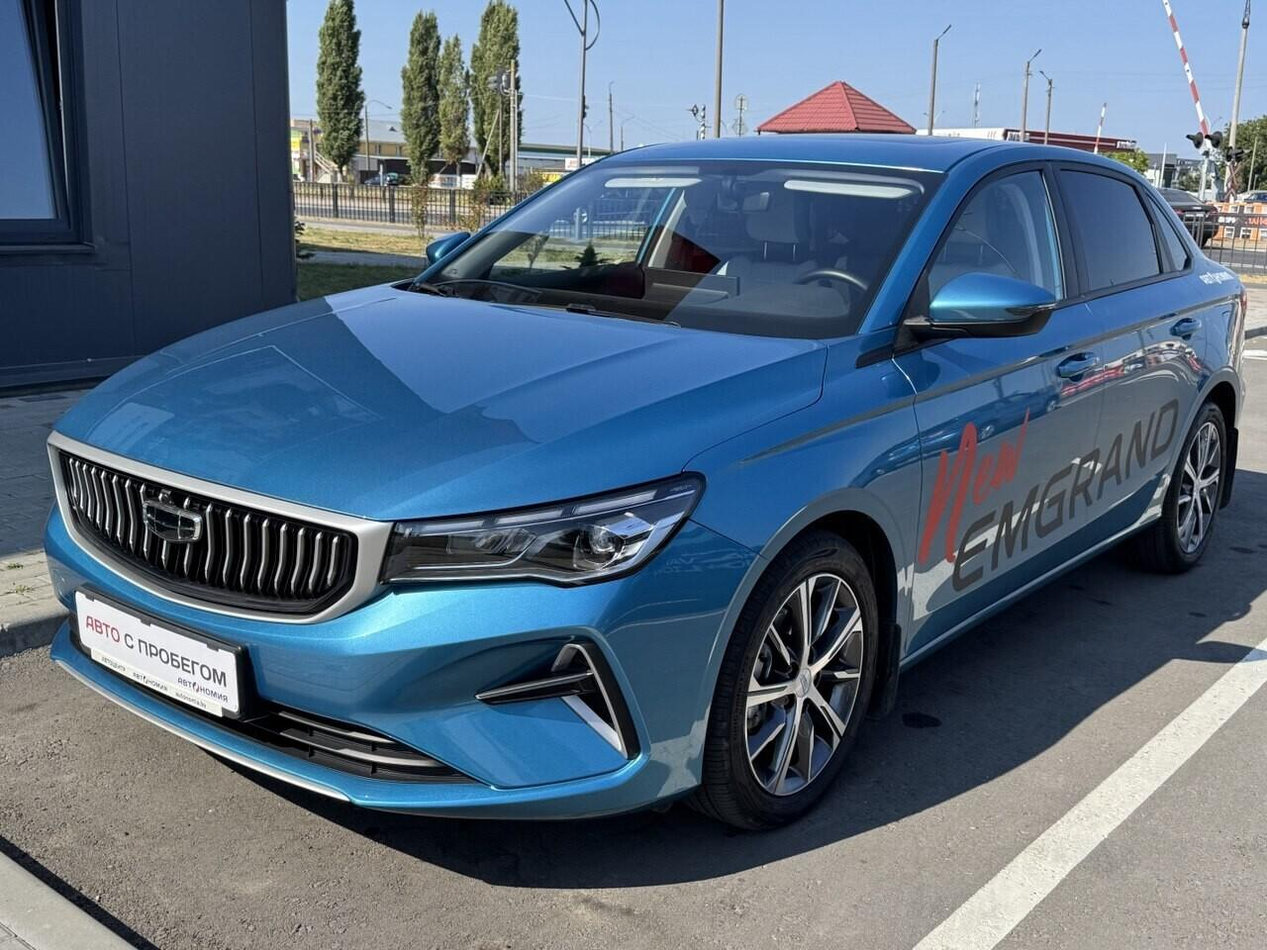Emgrand_2021: (36, 118, 1246, 841)
